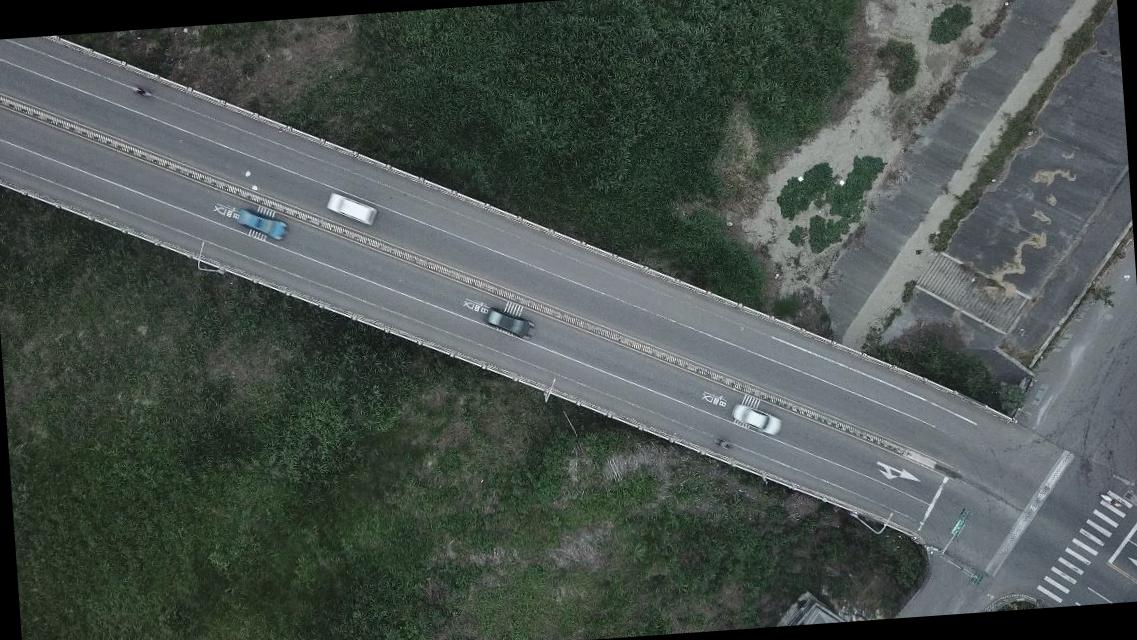vehicle: (322, 187, 380, 230), (480, 302, 537, 345), (232, 204, 289, 246), (728, 398, 782, 438)
